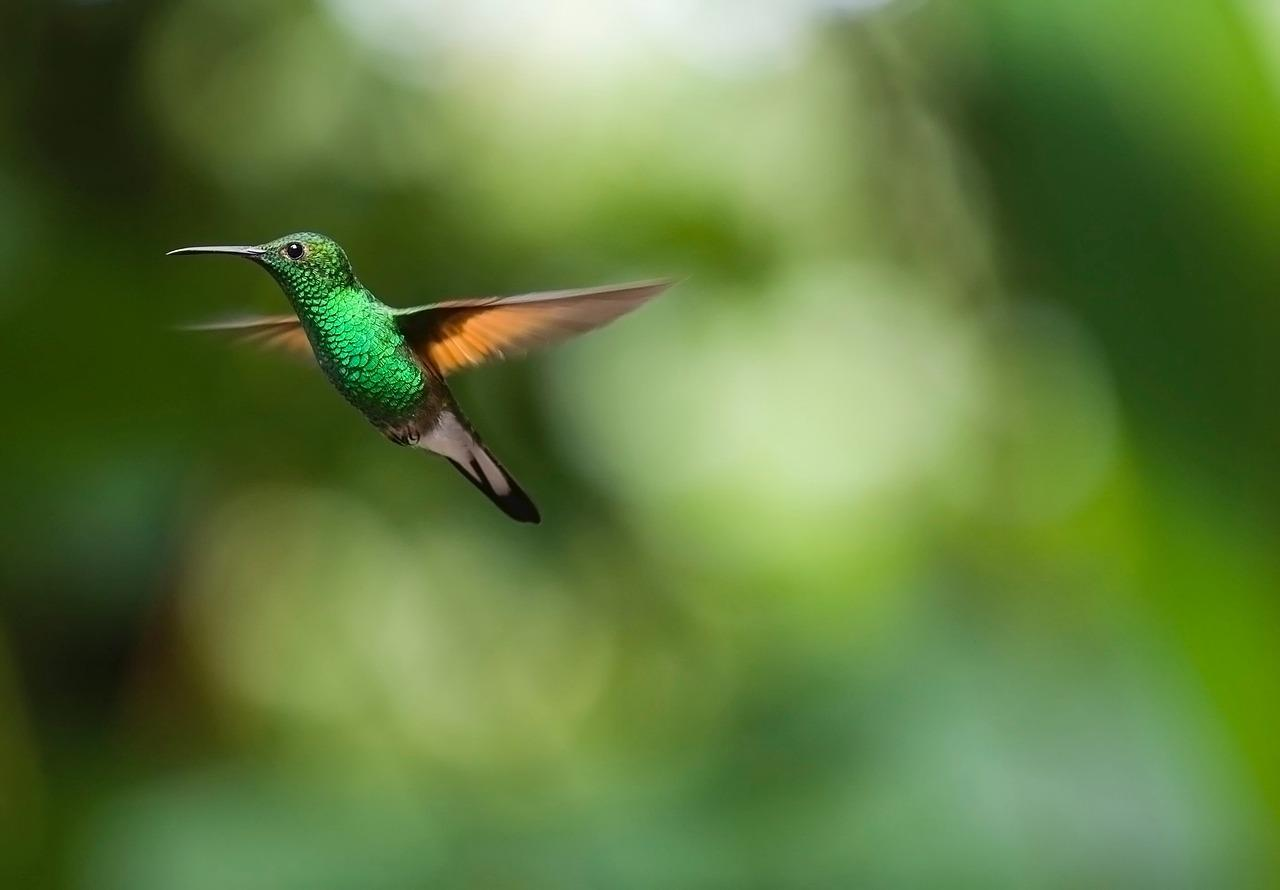bird: (171, 233, 671, 523)
